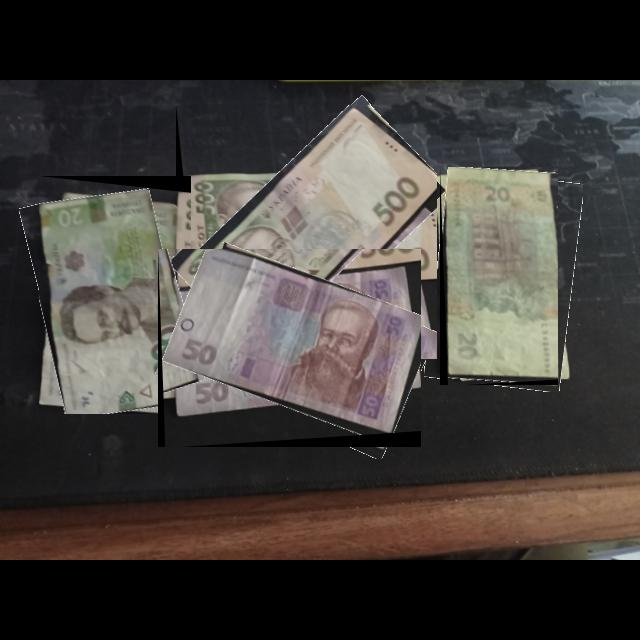20uah: (39, 186, 190, 415), (447, 167, 559, 381)
500uah: (191, 106, 438, 360)
50uah: (162, 249, 422, 437)
